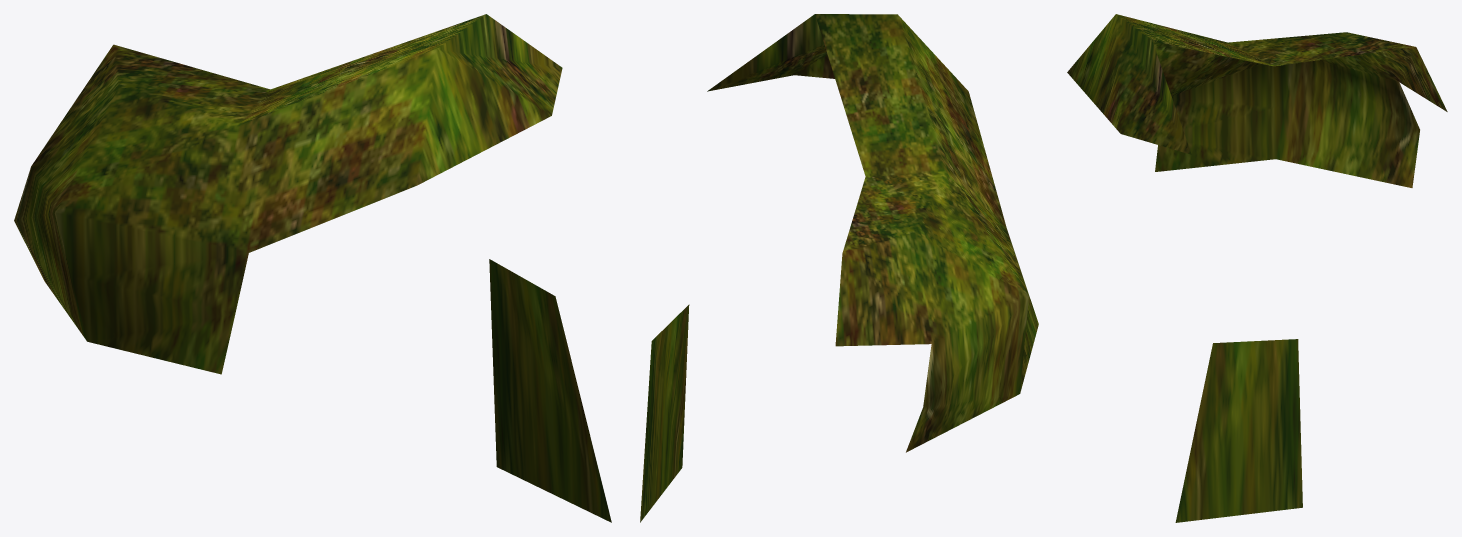
Rendered from TROLLHOLE02_RM_PSURF78.fbx.
3 renders of one model, left to right at view 1: azimuth 30°, elevation 25°; view 2: azimuth 150°, elevation 25°; view 3: azimuth 270°, elevation 25°, orthographic. The views are drawn at different scales.
Visible parts, largest first — view 1: TROLLHOLE02_RM_PSURF78; view 2: TROLLHOLE02_RM_PSURF78; view 3: TROLLHOLE02_RM_PSURF78.
Boxes of the visible parts, box(x1,y1,x2,y2) form: TROLLHOLE02_RM_PSURF78: box(14, 14, 611, 522); TROLLHOLE02_RM_PSURF78: box(640, 14, 1038, 522); TROLLHOLE02_RM_PSURF78: box(1067, 14, 1447, 522).
Size of the model in its own units: 44521 by 49048 by 39502.
Materials: 1 (1 with a texture image).
